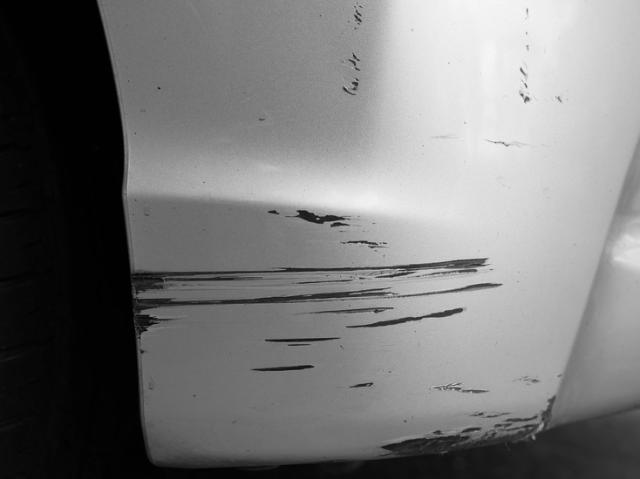Bumper: (104, 0, 574, 456)
